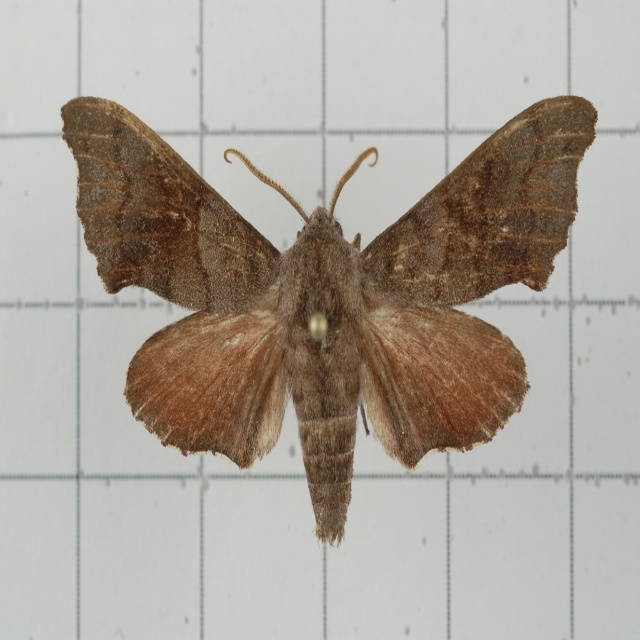Butterfly: (87, 85, 594, 548)
